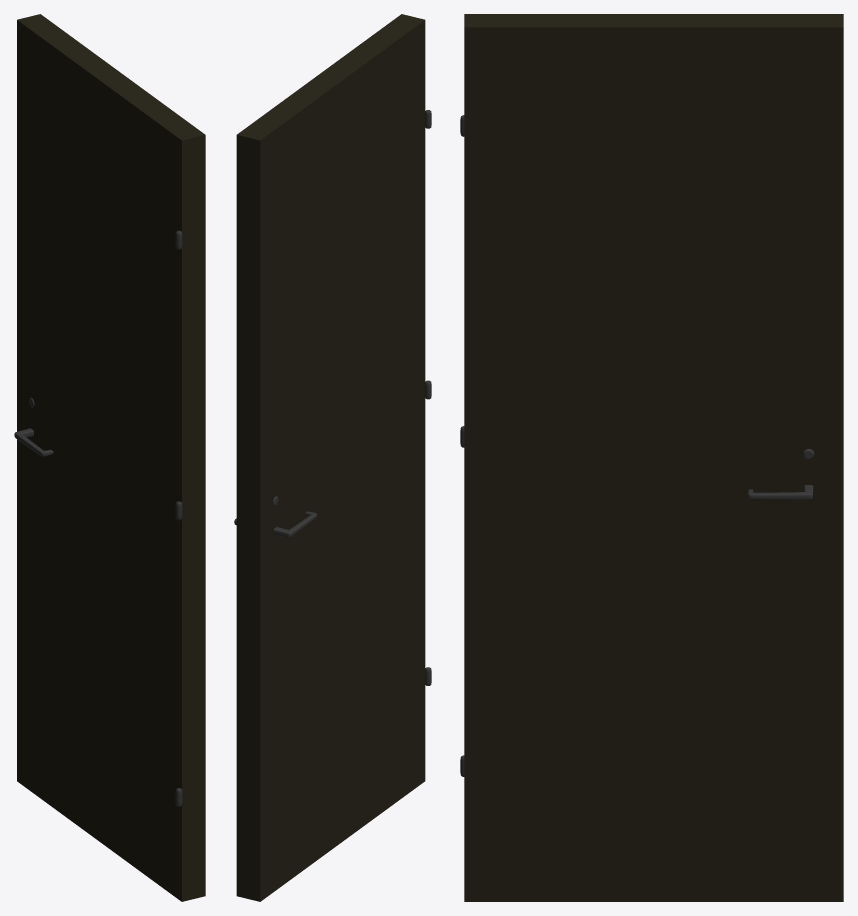
File: door.glb
3 views of the same model, side by side, from view 1: azimuth 30°, elevation 25°; view 2: azimuth 150°, elevation 25°; view 3: azimuth 270°, elevation 25° (orthographic). The views are drawn at different scales.
Parts seen in each view (by area): view 1: Door door door, Door door handle_inside; view 2: Door door door; view 3: Door door door.
Boxes of the visible parts, x1,y1,x2,y2 form: Door door door: (17, 14, 205, 901); Door door handle_inside: (14, 428, 53, 456); Door door door: (236, 14, 425, 901); Door door door: (464, 14, 843, 901).
Bounding box in the file's own units: 0.188 × 2.41 × 0.9575.
Materials: 2 (2 with a texture image).
